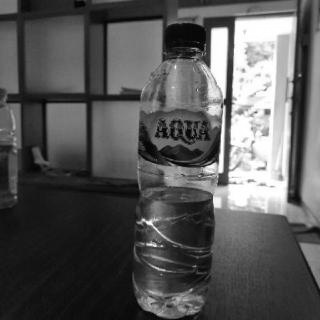plastic_bottles: (130, 21, 225, 320)
